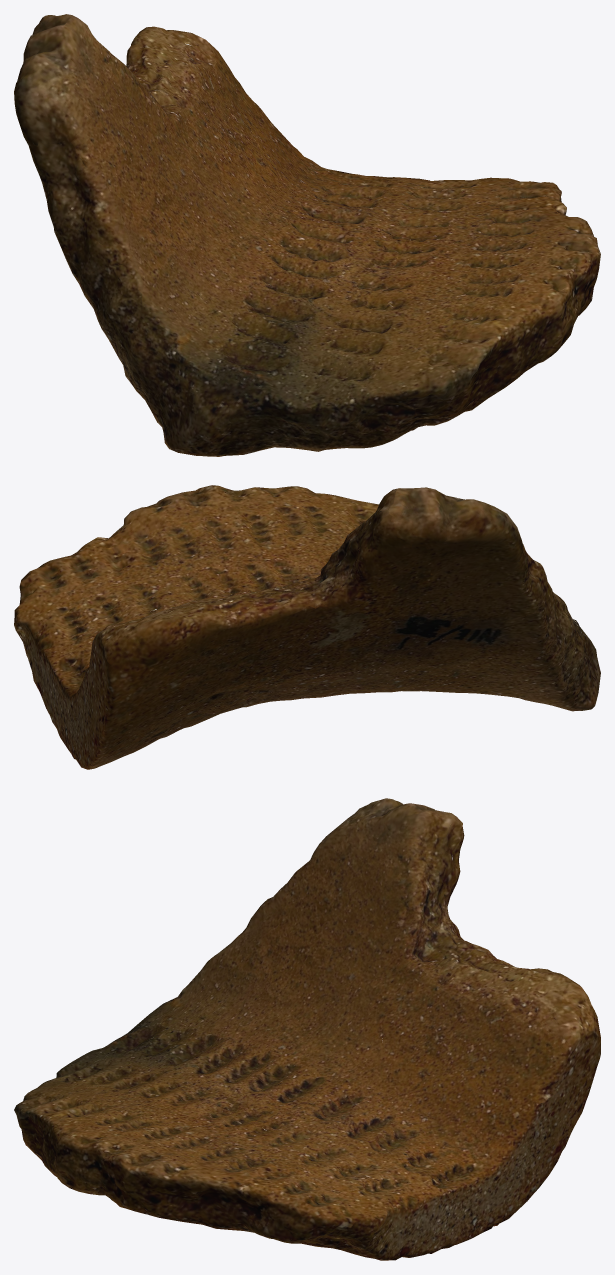
File: nie.glb
3 views of the same model, one above another, from view 1: azimuth 30°, elevation 25°; view 2: azimuth 150°, elevation 25°; view 3: azimuth 270°, elevation 25° (orthographic). The views are drawn at different scales.
Size of the model in its own units: 0.0756 by 0.0453 by 0.0808.
1 material, 1 textured.
